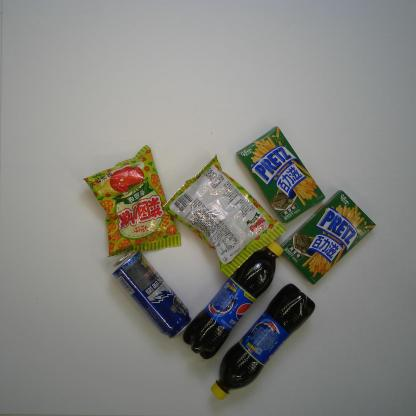Alcohol: (110, 248, 192, 339)
Dessert: (281, 189, 377, 286), (236, 125, 326, 225)
Drink: (210, 282, 316, 402), (182, 240, 284, 361)
Puffed Food: (162, 154, 287, 279), (82, 145, 182, 258)
